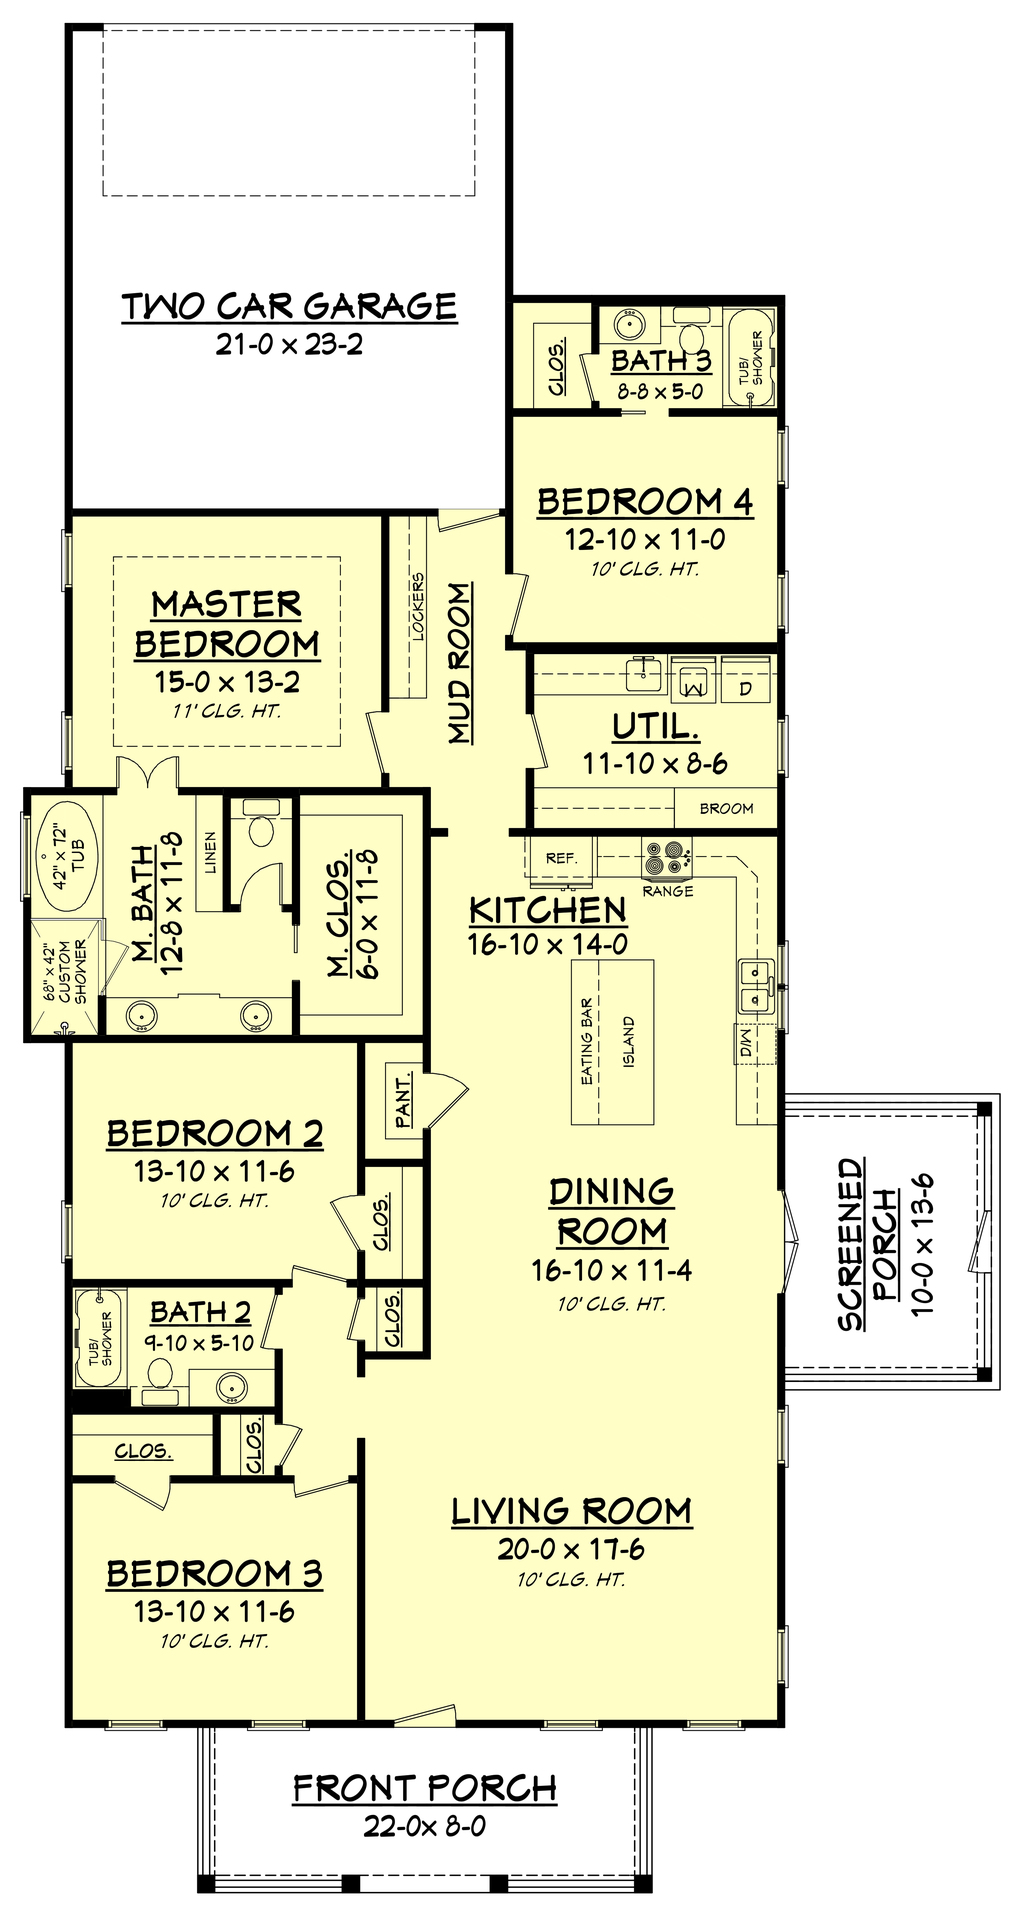door: (104, 754, 188, 799), (109, 1467, 182, 1511), (409, 1069, 468, 1124), (242, 865, 290, 909)
large_sink: (218, 795, 290, 852), (121, 1356, 182, 1412)
small_sink: (107, 995, 284, 1045), (193, 1367, 278, 1414)
